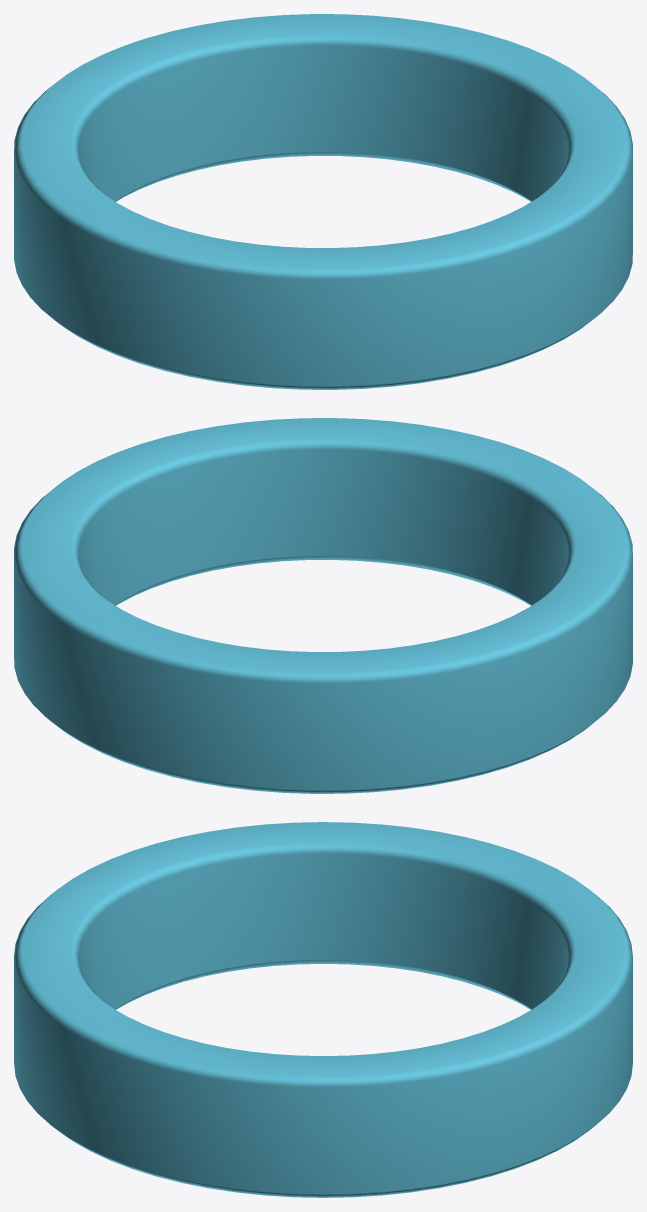
3 renders of one model, top to bottom at view 1: azimuth 30°, elevation 25°; view 2: azimuth 150°, elevation 25°; view 3: azimuth 270°, elevation 25°, orthographic.
Parts seen in each view (by area): view 1: seal_body; view 2: seal_body; view 3: seal_body.
Boxes of the visible parts, left/top/right/bottom form: seal_body: left=14, top=14, right=632, bottom=389; seal_body: left=14, top=418, right=632, bottom=793; seal_body: left=14, top=822, right=632, bottom=1197.
Bounding box in the file's own units: 0.038 × 0.0082 × 0.038.
